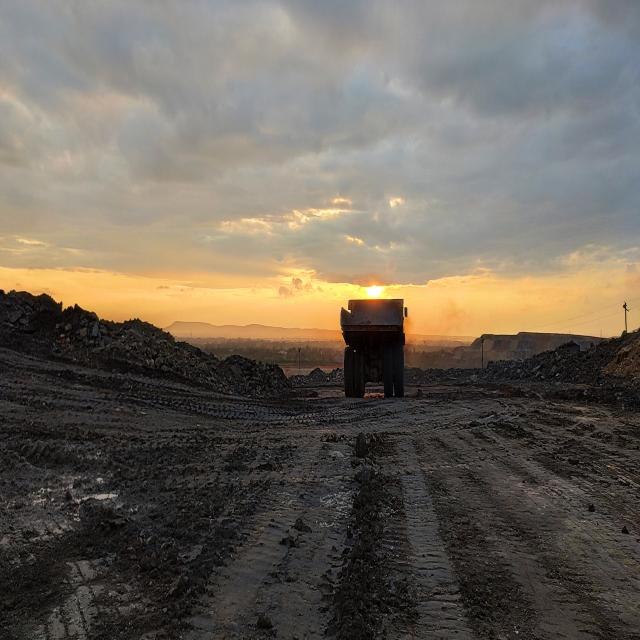dump_truck: (340, 298, 405, 398)
